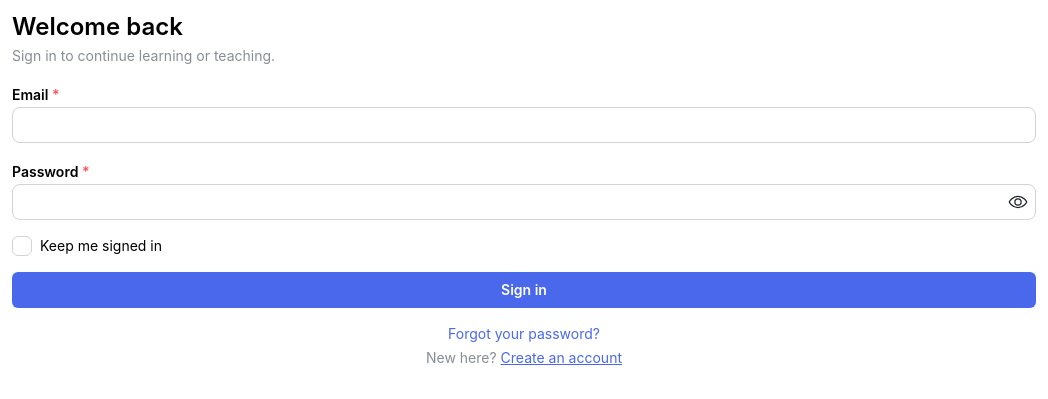
LoginRoute › maps server field errors back onto the inputs
The width and height of the screenshot is (1048, 399).
Type "blocked@example.com" into the field labelled "Email *" at (524,125), box [12, 107, 1036, 143]
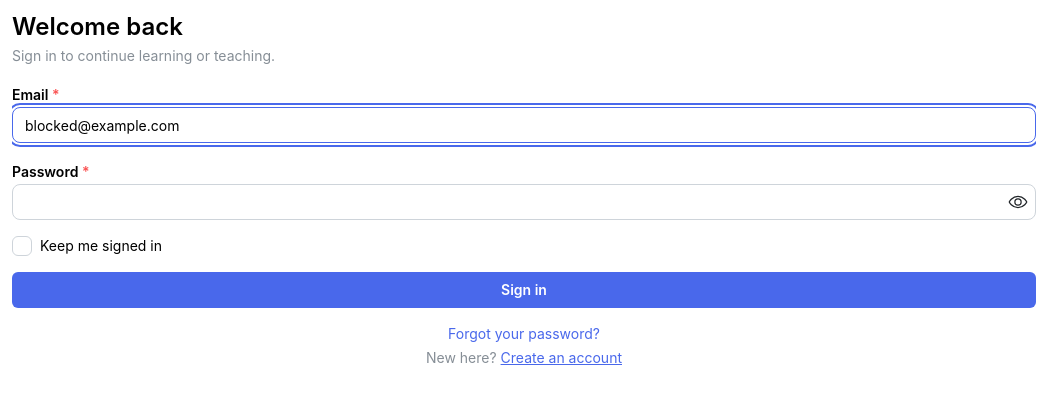
Type "password" into the password field labelled "Password *" at (524,202), box [13, 185, 1035, 219]
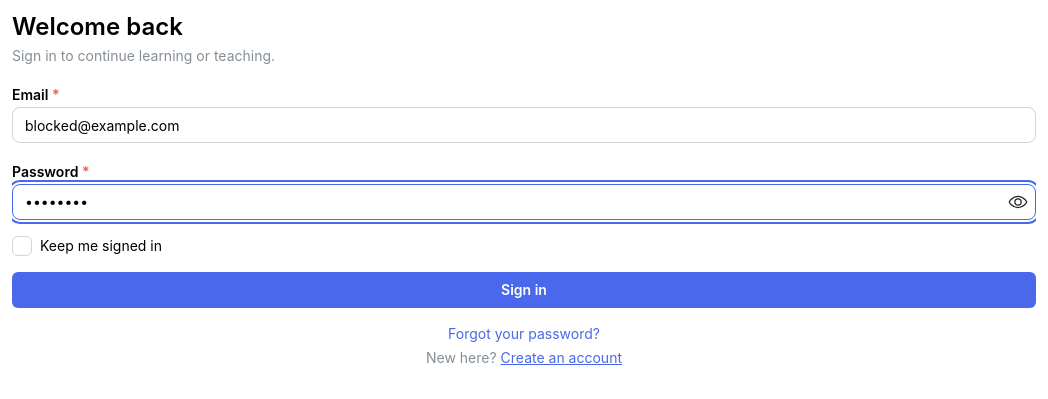
Click the button "Sign in" at (524,290), box [12, 272, 1036, 308]
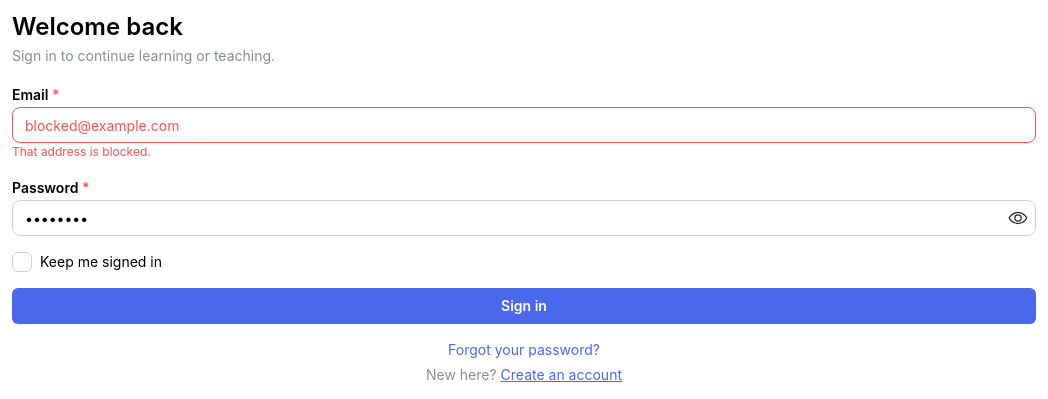
Expected: the text "That address is blocked." is shown, [12, 144, 151, 159]
